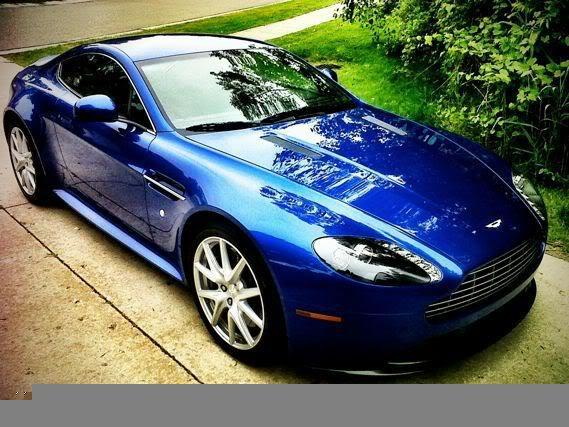Car: (1, 11, 569, 392)
